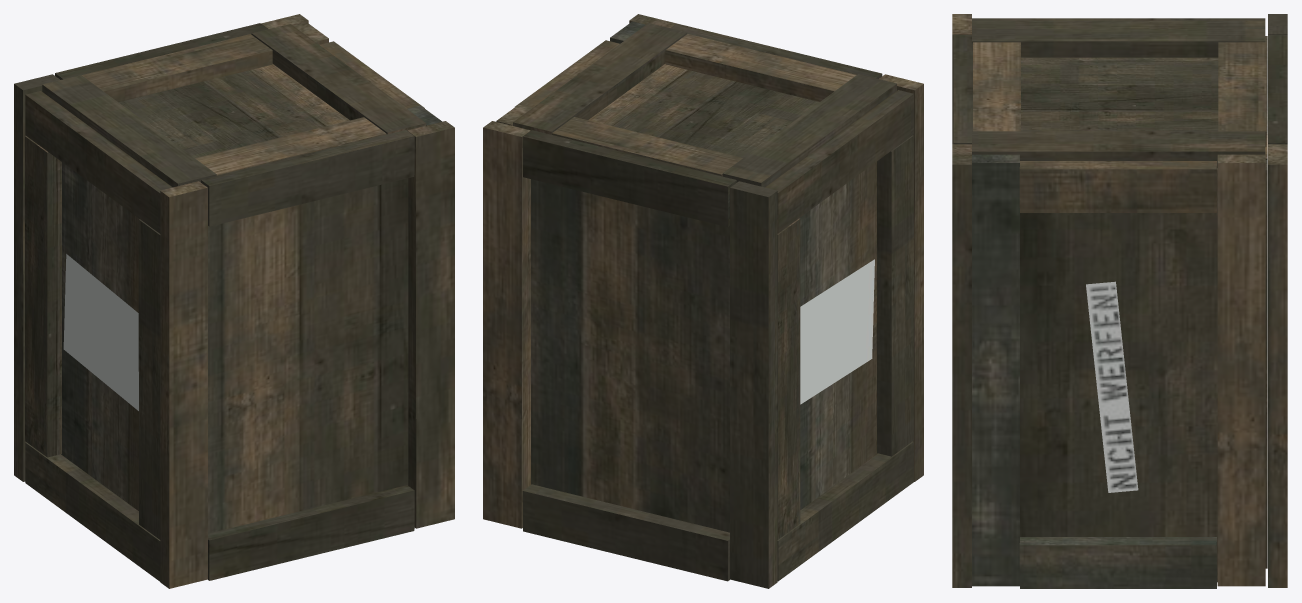
The model's file is prop_crate_wehrmacht9.glb.
3 views of the same model, side by side, from view 1: azimuth 30°, elevation 25°; view 2: azimuth 150°, elevation 25°; view 3: azimuth 270°, elevation 25° (orthographic). The views are drawn at different scales.
Bounding box in the file's own units: 18.05 × 23.96 × 16.9.
2 materials, 2 textured.
